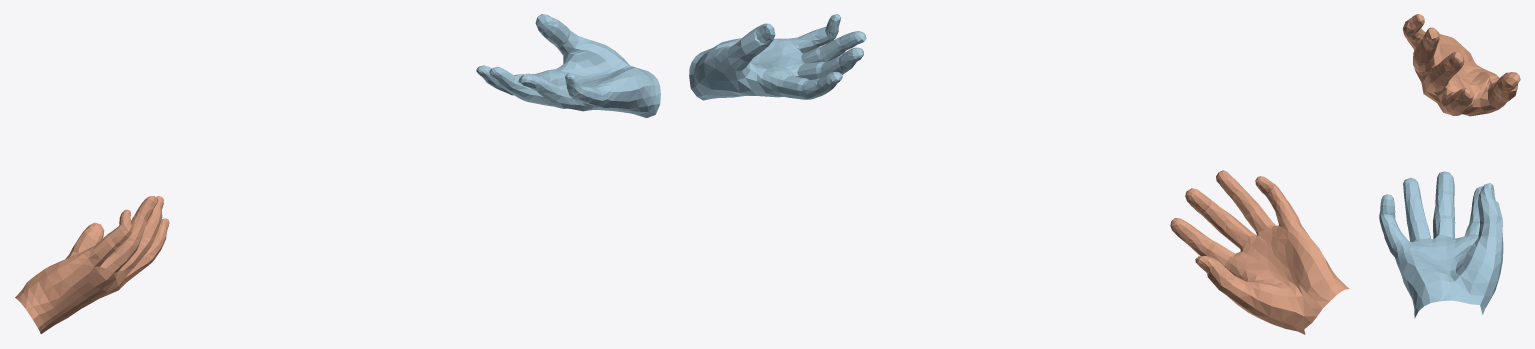
The model's file is frame_009.glb.
3 views of the same model, side by side, from view 1: azimuth 30°, elevation 25°; view 2: azimuth 150°, elevation 25°; view 3: azimuth 270°, elevation 25° (orthographic). The views are drawn at different scales.
Visible parts, largest first — view 1: world; view 2: world; view 3: world.
Boxes of the visible parts, bbox=[...] form: world: bbox=[15, 14, 660, 333]; world: bbox=[689, 14, 1349, 334]; world: bbox=[1379, 14, 1520, 318].
Bounding box in the file's own units: 0.6373 × 0.1768 × 0.1145.
